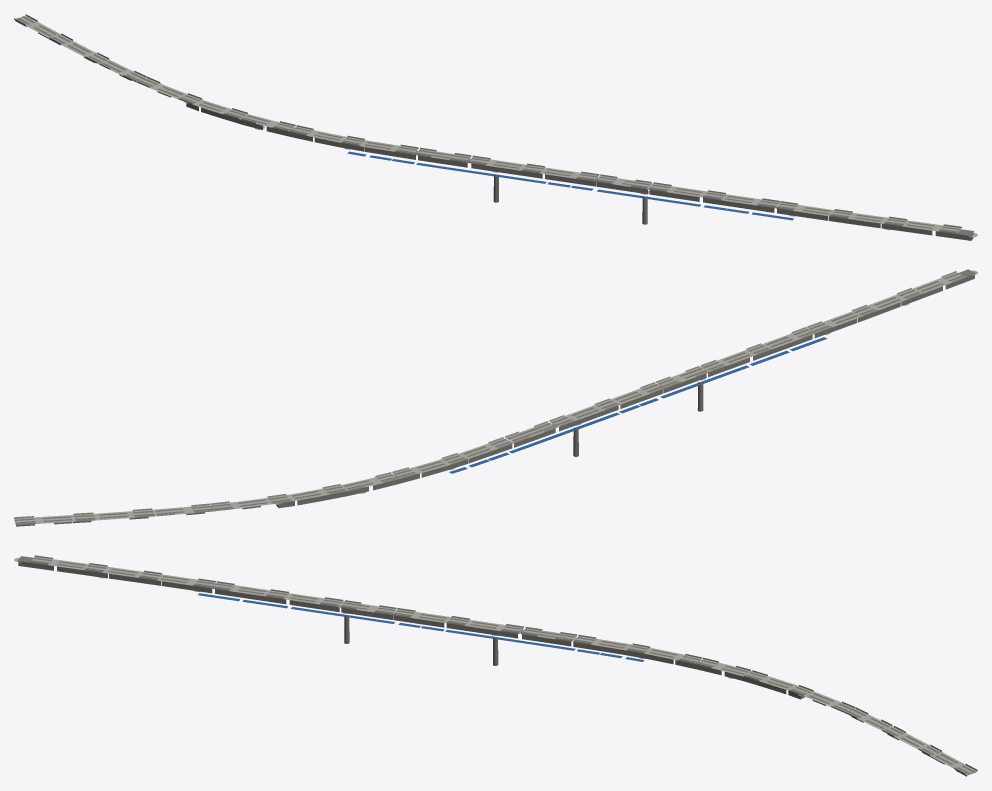
The model's file is br_r9_menzies_lod2.gltf.
3 views of the same model, one above another, from view 1: azimuth 90°, elevation 25°; view 2: azimuth 150°, elevation 25°; view 3: azimuth 270°, elevation 25° (orthographic). The views are drawn at different scales.
Visible parts, largest first — view 1: br_r9_menzies_lod2; view 2: br_r9_menzies_lod2; view 3: br_r9_menzies_lod2.
Part boxes in pixels (x1,y1,x2,y2): br_r9_menzies_lod2: [14, 14, 977, 240]; br_r9_menzies_lod2: [14, 269, 977, 526]; br_r9_menzies_lod2: [14, 555, 977, 776].
Size of the model in its own units: 326 by 27.1 by 603.
